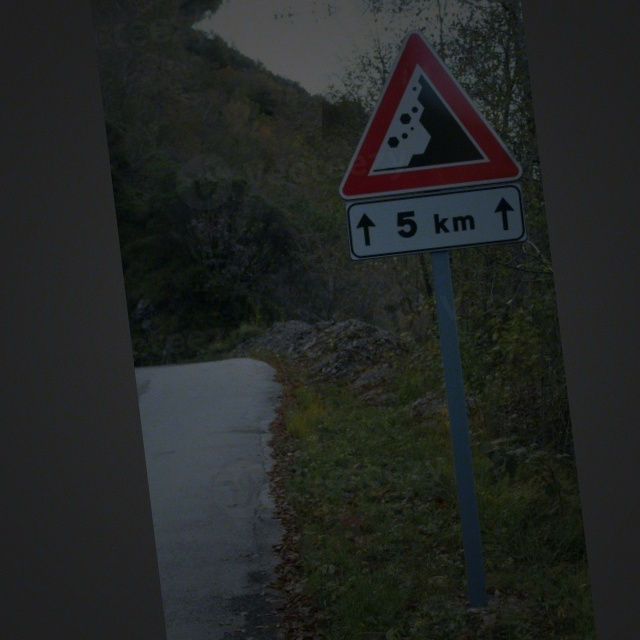Falling_Rocks: (322, 22, 521, 200)
